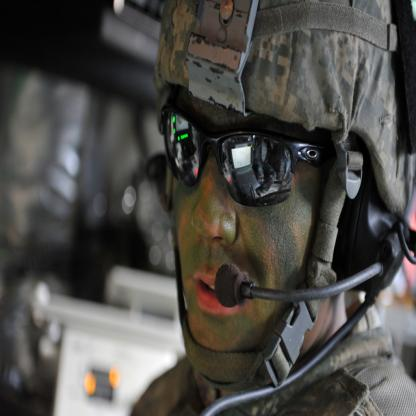Helmet: (151, 13, 400, 352)
